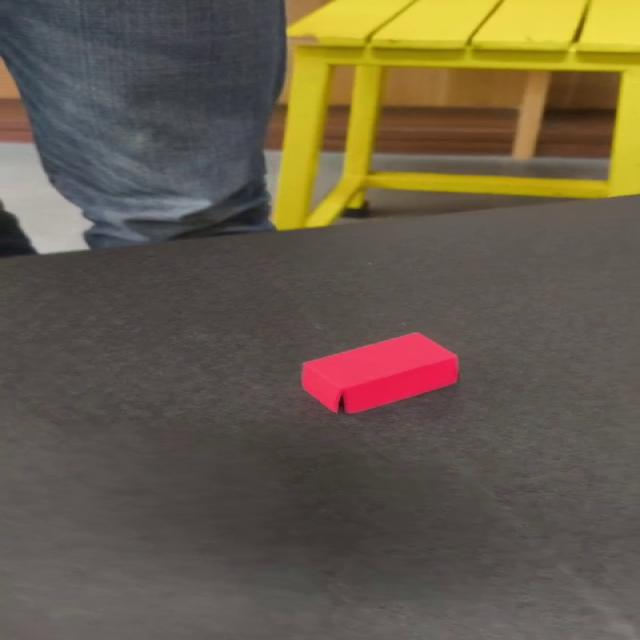red block: (299, 331, 460, 414)
